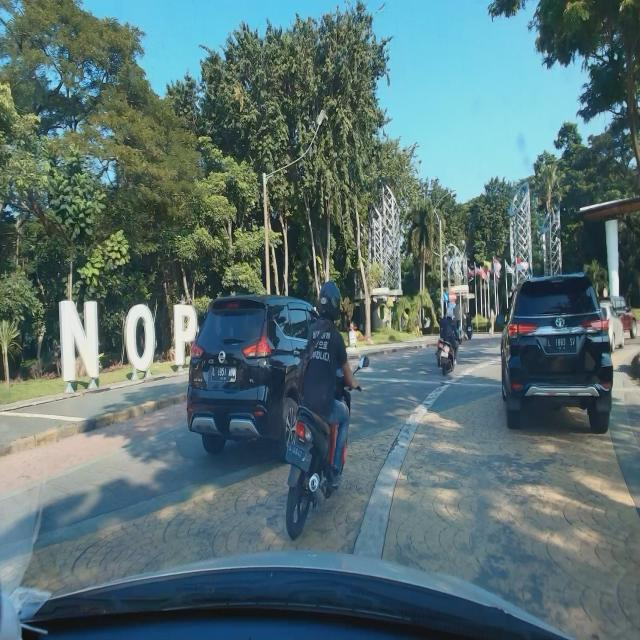car: (184, 291, 348, 463), (499, 270, 614, 436)
license-plate: (546, 334, 576, 354), (211, 366, 237, 383)
